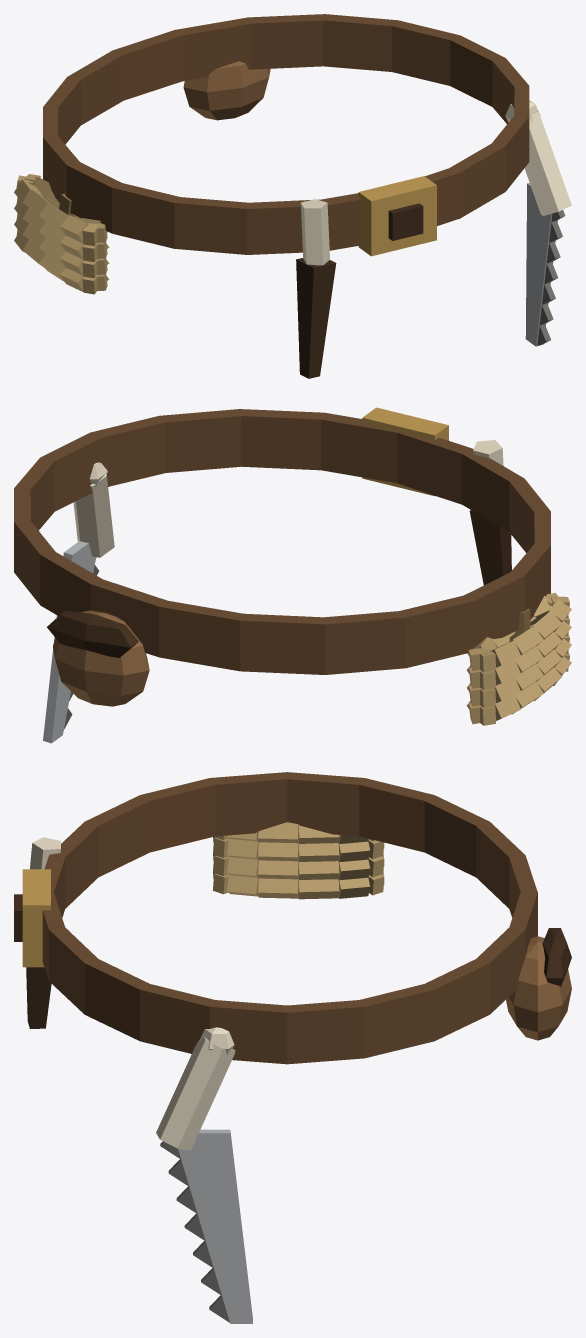
Rendered from ivory_poacher_belt.glb.
3 views of the same model, one above another, from view 1: azimuth 30°, elevation 25°; view 2: azimuth 150°, elevation 25°; view 3: azimuth 270°, elevation 25° (orthographic). The views are drawn at different scales.
Parts seen in each view (by area): view 1: ivory_poacher_belt; view 2: ivory_poacher_belt; view 3: ivory_poacher_belt.
Boxes of the visible parts, x1,y1,x2,y2 form: ivory_poacher_belt: (14,14,571,378); ivory_poacher_belt: (14,407,571,743); ivory_poacher_belt: (14,772,571,1323).
Size of the model in its own units: 1.09 by 0.6028 by 0.98.
